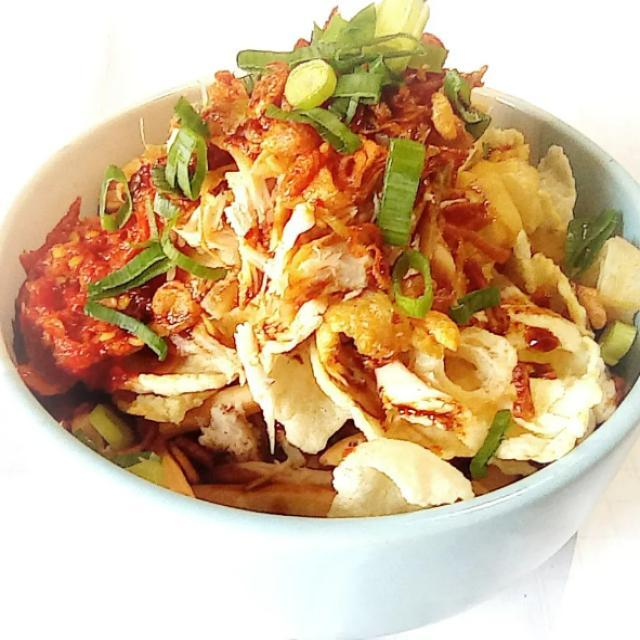bubur ayam: (17, 0, 640, 516)
mangkuk: (0, 0, 640, 631)
sambal: (15, 194, 167, 388)
